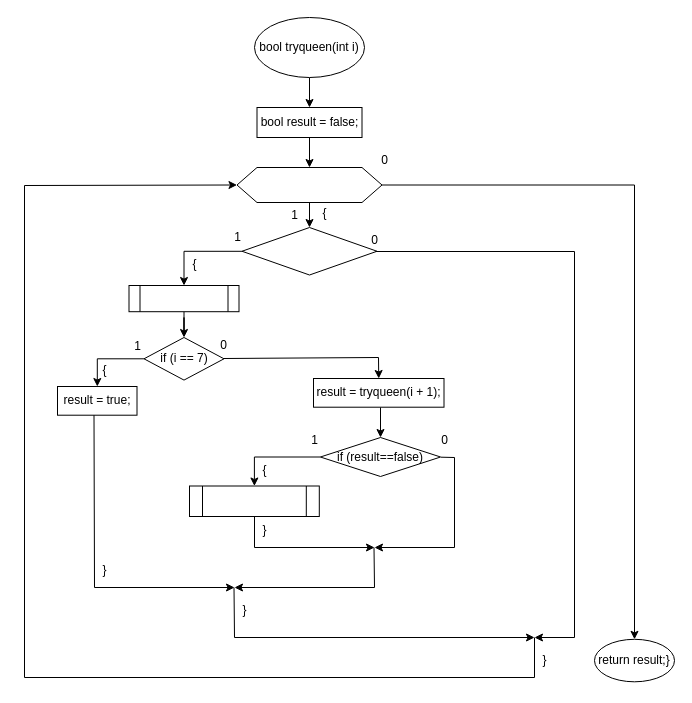
Some shapes in this 692 by 703 pixel diagram are drawn without their labels. Each missing label, with the box of its shape:
for (int j = 0; j <= 7; ++j): (236, 166, 382, 202)
if (board[i][j] == 0): (241, 226, 377, 275)
putqueen(i, j);: (128, 284, 239, 312)
removequeen(i, j);: (188, 485, 319, 516)
